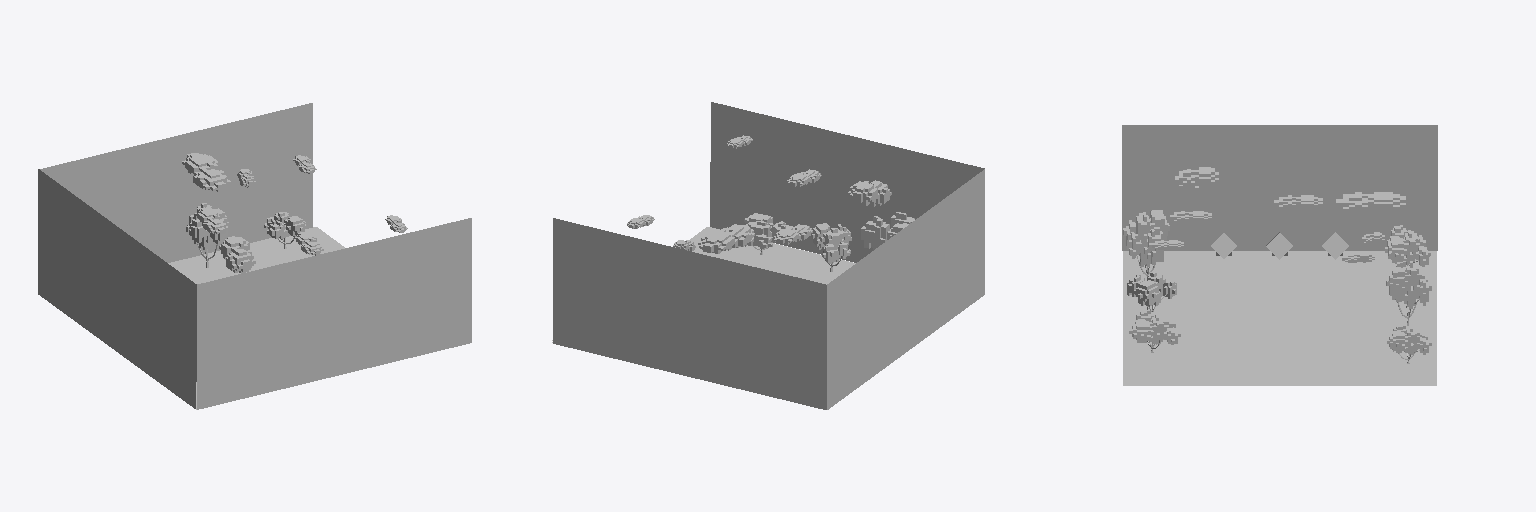
The model's file is archery_stage.obj.
3 views of the same model, side by side, from view 1: azimuth 30°, elevation 25°; view 2: azimuth 150°, elevation 25°; view 3: azimuth 270°, elevation 25° (orthographic).
Visible parts, largest first — view 1: Plane.003_Plane.004, Plane.002_Plane.003, Plane.001_Plane.002, Plane, Sphere.002_Sphere.003, Sphere.001_Sphere.002, Sphere.011, Sphere.012, Sphere.008_Sphere.009, Plane.004_Plane.006; view 2: Plane.002_Plane.003, Plane.003_Plane.004, Plane.001_Plane.002, Plane, Sphere.009_Sphere.005, Sphere.002_Sphere.003, Sphere.010, Sphere.004_Sphere.001, Sphere.001_Sphere.002, Sphere.008_Sphere.009; view 3: Plane.001_Plane.002, Plane, Plane.004_Plane.006, Sphere.010, Sphere.012, Sphere.003_Sphere.004, Sphere.004_Sphere.001, Sphere.002_Sphere.003, Sphere.009_Sphere.005, Sphere.001_Sphere.002, Sphere.011, Sphere.008_Sphere.009.
Part boxes in pixels (left/top/right/bottom): Plane.003_Plane.004: left=197, top=218, right=471, bottom=409; Plane.002_Plane.003: left=40, top=103, right=312, bottom=262; Plane.001_Plane.002: left=38, top=169, right=196, bottom=408; Plane: left=168, top=238, right=309, bottom=408; Sphere.002_Sphere.003: left=182, top=153, right=230, bottom=191; Sphere.001_Sphere.002: left=219, top=236, right=255, bottom=273; Sphere.011: left=264, top=212, right=306, bottom=239; Sphere.012: left=186, top=203, right=228, bottom=250; Sphere.008_Sphere.009: left=195, top=207, right=228, bottom=234; Plane.004_Plane.006: left=286, top=227, right=344, bottom=256; Plane.002_Plane.003: left=553, top=218, right=826, bottom=409; Plane.003_Plane.004: left=710, top=102, right=984, bottom=262; Plane.001_Plane.002: left=827, top=169, right=984, bottom=409; Plane: left=552, top=243, right=855, bottom=342; Sphere.009_Sphere.005: left=811, top=223, right=851, bottom=263; Sphere.002_Sphere.003: left=698, top=224, right=754, bottom=253; Sphere.010: left=861, top=212, right=914, bottom=250; Sphere.004_Sphere.001: left=743, top=213, right=792, bottom=248; Sphere.001_Sphere.002: left=848, top=180, right=891, bottom=206; Sphere.008_Sphere.009: left=773, top=224, right=812, bottom=244; Plane.001_Plane.002: left=1122, top=125, right=1437, bottom=250; Plane: left=1123, top=251, right=1436, bottom=385; Plane.004_Plane.006: left=1124, top=368, right=1435, bottom=384; Sphere.010: left=1123, top=210, right=1169, bottom=266; Sphere.012: left=1386, top=261, right=1431, bottom=308; Sphere.003_Sphere.004: left=1385, top=225, right=1430, bottom=266; Sphere.004_Sphere.001: left=1129, top=309, right=1180, bottom=344; Sphere.002_Sphere.003: left=1336, top=192, right=1405, bottom=213; Sphere.009_Sphere.005: left=1127, top=272, right=1176, bottom=306; Sphere.001_Sphere.002: left=1175, top=167, right=1218, bottom=193; Sphere.011: left=1387, top=325, right=1431, bottom=354; Sphere.008_Sphere.009: left=1274, top=195, right=1322, bottom=209.
Size of the model in its own units: 46.12 by 20.08 by 45.67.